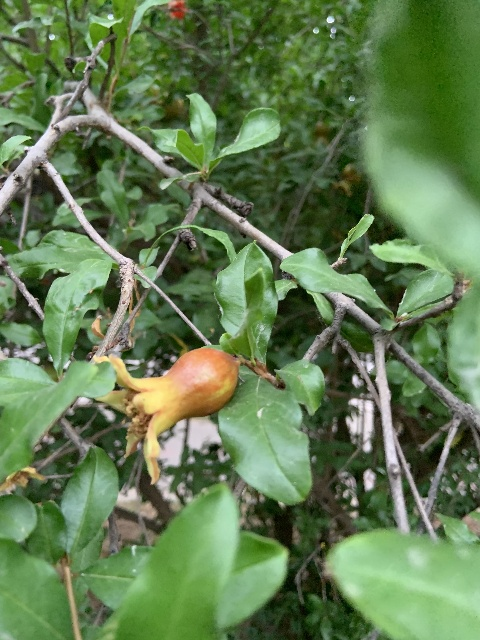early-fruit: (91, 347, 239, 484)
